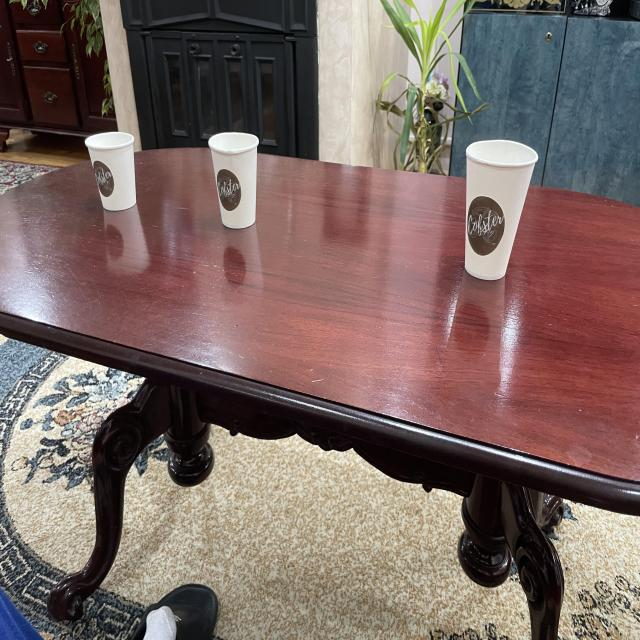big: (454, 136, 545, 288)
medium: (206, 125, 268, 231)
small: (83, 121, 145, 215)
